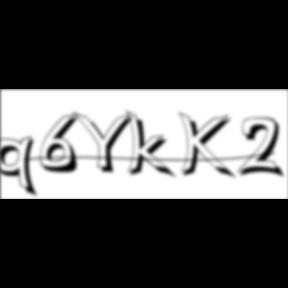2: (238, 117, 288, 181)
6: (40, 112, 86, 176)
K: (180, 110, 238, 182)
Y: (73, 110, 140, 176)
k: (126, 108, 179, 181)
q: (0, 135, 42, 200)
